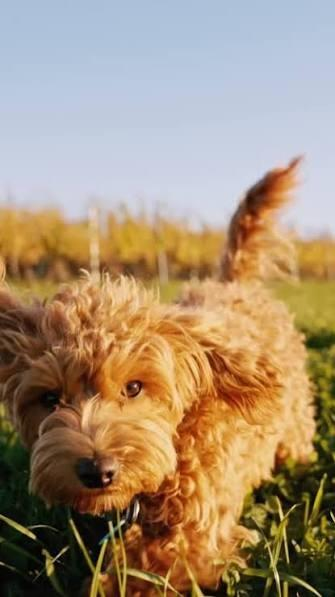puppy-dog: (0, 150, 320, 597)
